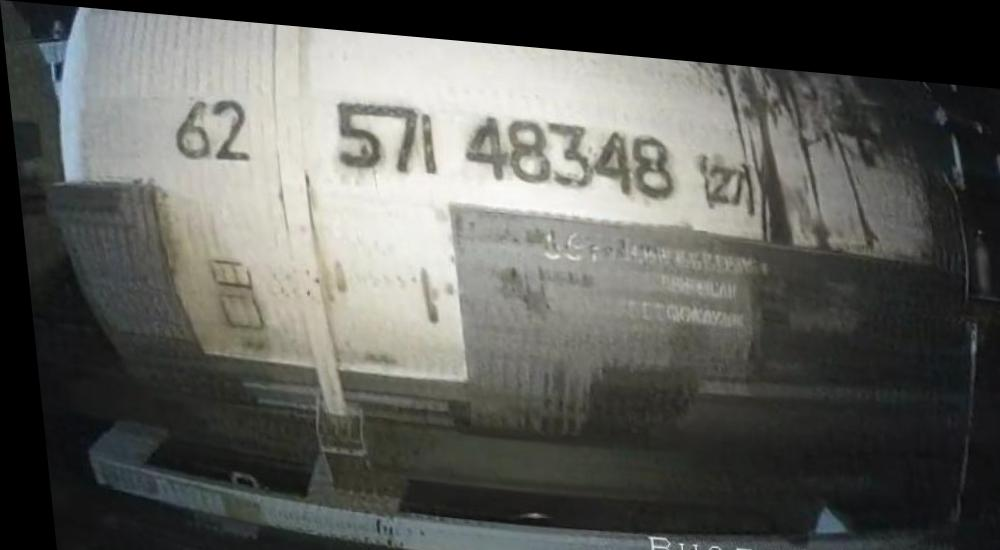Wagon-number: (325, 89, 676, 192)
